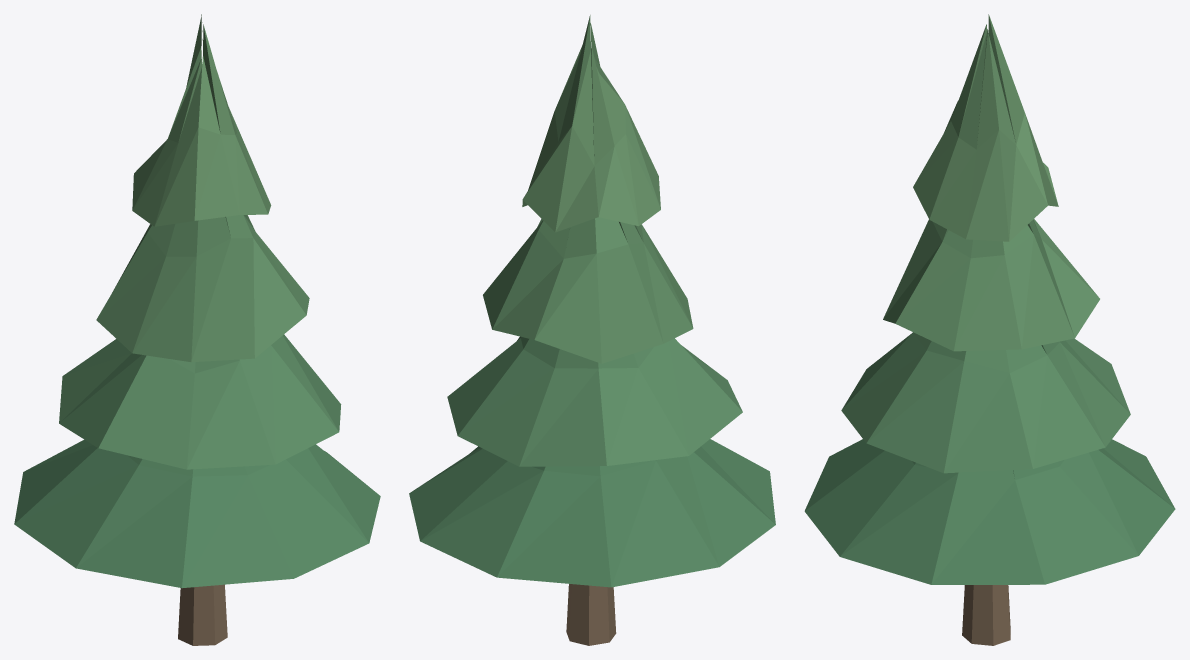
File: pine.glb
The picture shows the model from 3 angles, left to right: view 1: azimuth 30°, elevation 25°; view 2: azimuth 150°, elevation 25°; view 3: azimuth 270°, elevation 25°; orthographic projection.
Visible parts, largest first — view 1: pine; view 2: pine; view 3: pine.
Boxes of the visible parts, x1,y1,x2,y2 form: pine: [14, 14, 380, 645]; pine: [409, 15, 775, 645]; pine: [804, 14, 1175, 645].
Size of the model in its own units: 3.37 by 6.42 by 3.47.
